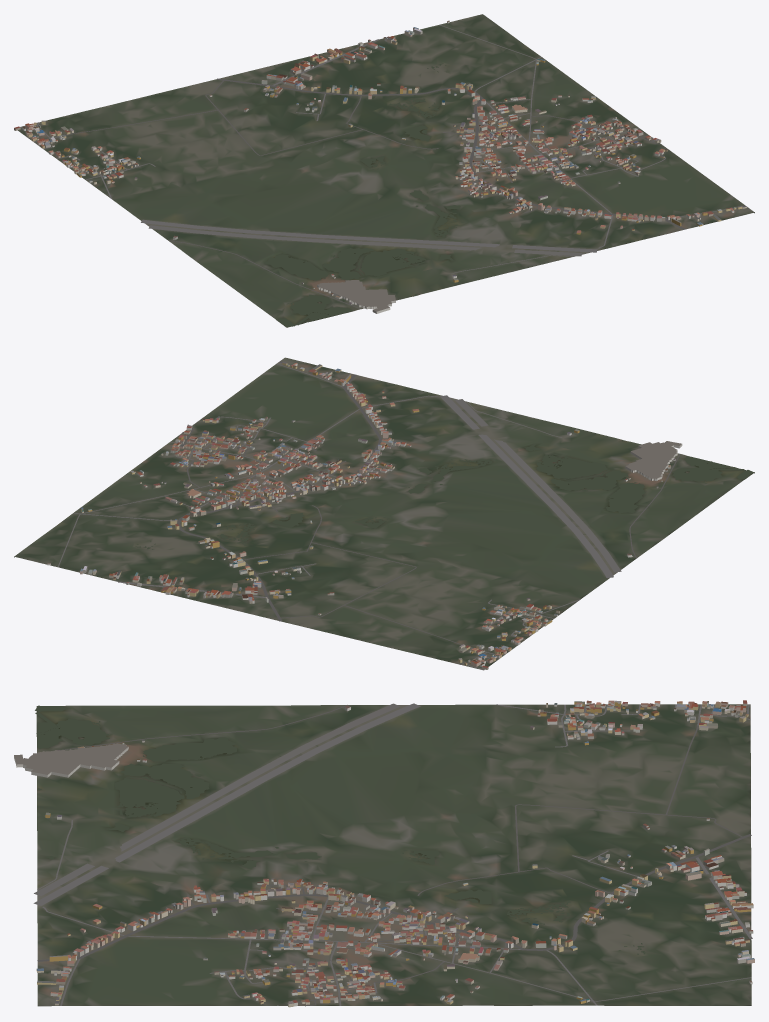
3 renders of one model, top to bottom at view 1: azimuth 30°, elevation 25°; view 2: azimuth 150°, elevation 25°; view 3: azimuth 270°, elevation 25°, orthographic. The views are drawn at different scales.
Parts seen in each view (by area): view 1: ground, buildings, roads, water; view 2: ground, buildings, roads, water; view 3: ground, buildings, roads, water.
Part boxes in pixels (box(x1,y1,x2,y2)): ground: box(18, 14, 754, 327); buildings: box(14, 20, 746, 313); roads: box(20, 24, 737, 309); water: box(264, 63, 521, 327); ground: box(14, 357, 754, 670); buildings: box(47, 361, 682, 669); roads: box(57, 363, 680, 669); water: box(135, 416, 754, 549); ground: box(36, 704, 751, 1006); buildings: box(14, 700, 754, 1007); roads: box(33, 703, 752, 1006); water: box(35, 705, 645, 954).
Size of the model in its own units: 1411 by 19.49 by 1455.
